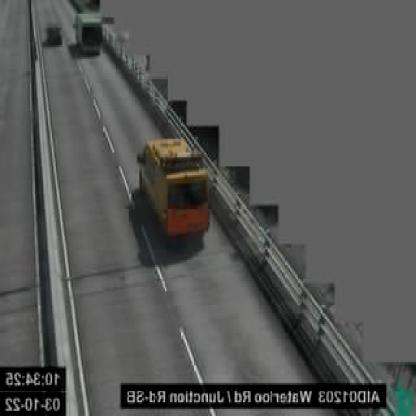Car: (138, 135, 209, 234), (73, 12, 103, 54), (43, 24, 62, 44)
